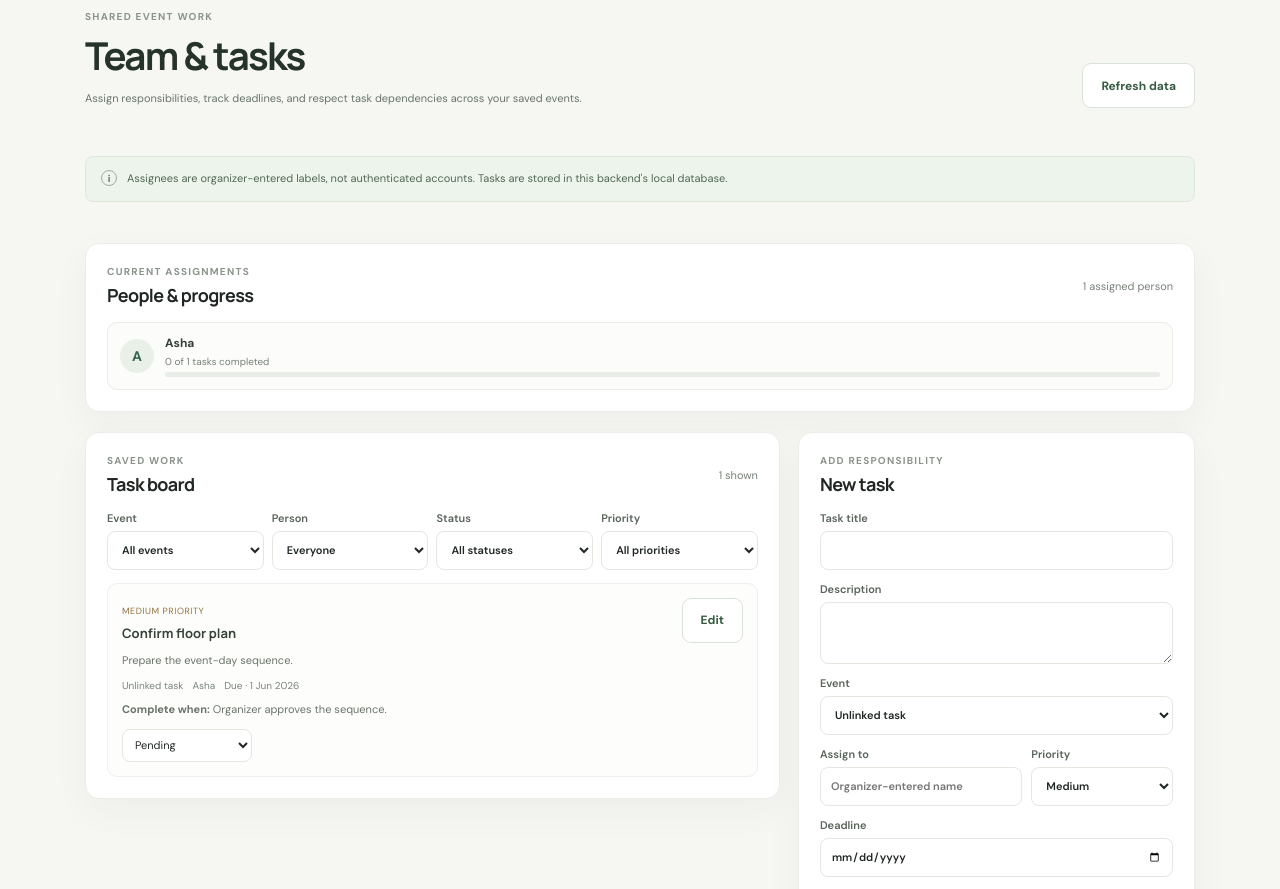
Test: Team & Tasks coordination › creates assigned work with a dependency and reports the persisted result
In the field labelled "Task title": (996, 550) [820, 531, 1173, 570], type "Prepare seating chart"
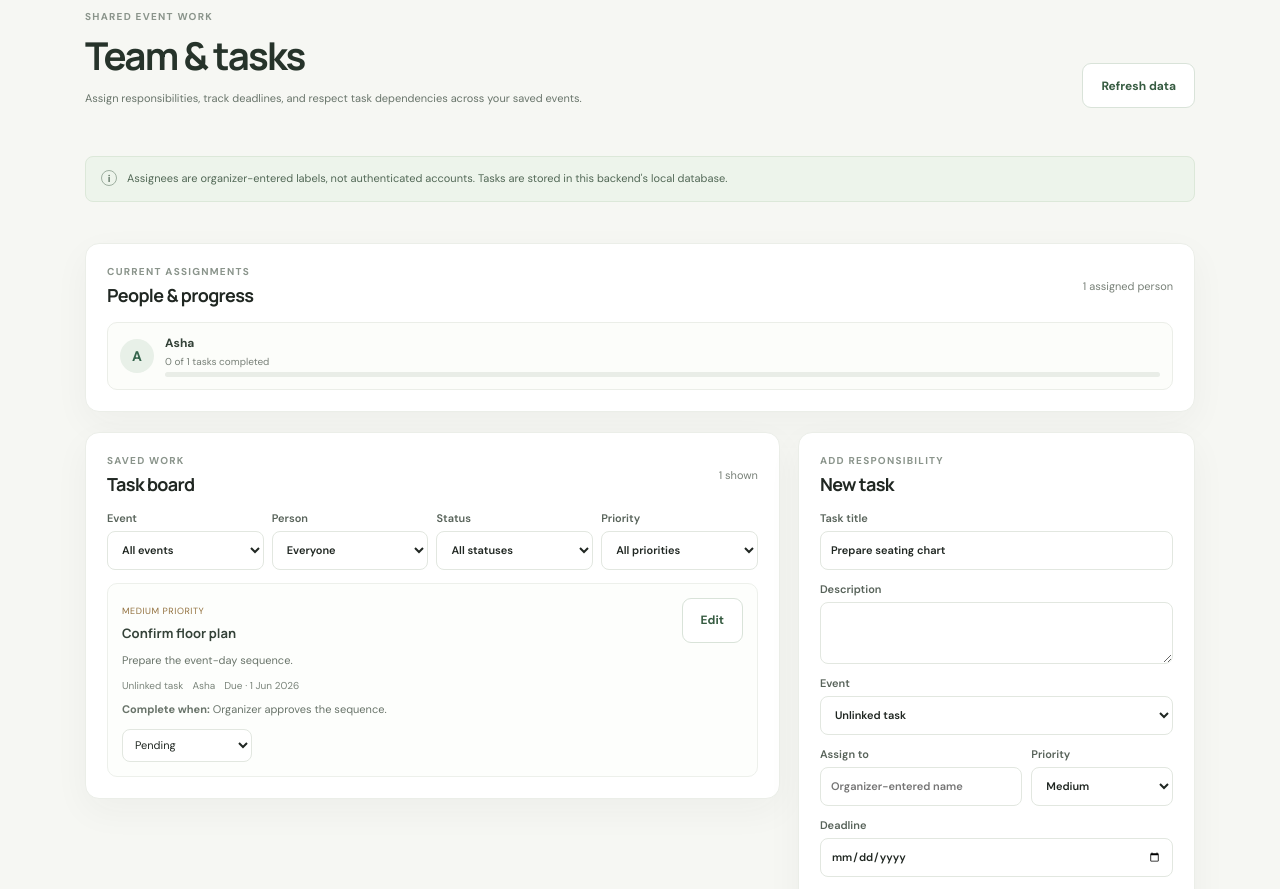
In the field labelled "Assign to": (921, 786) [820, 767, 1022, 806], type "Meera"
(page scrolled)
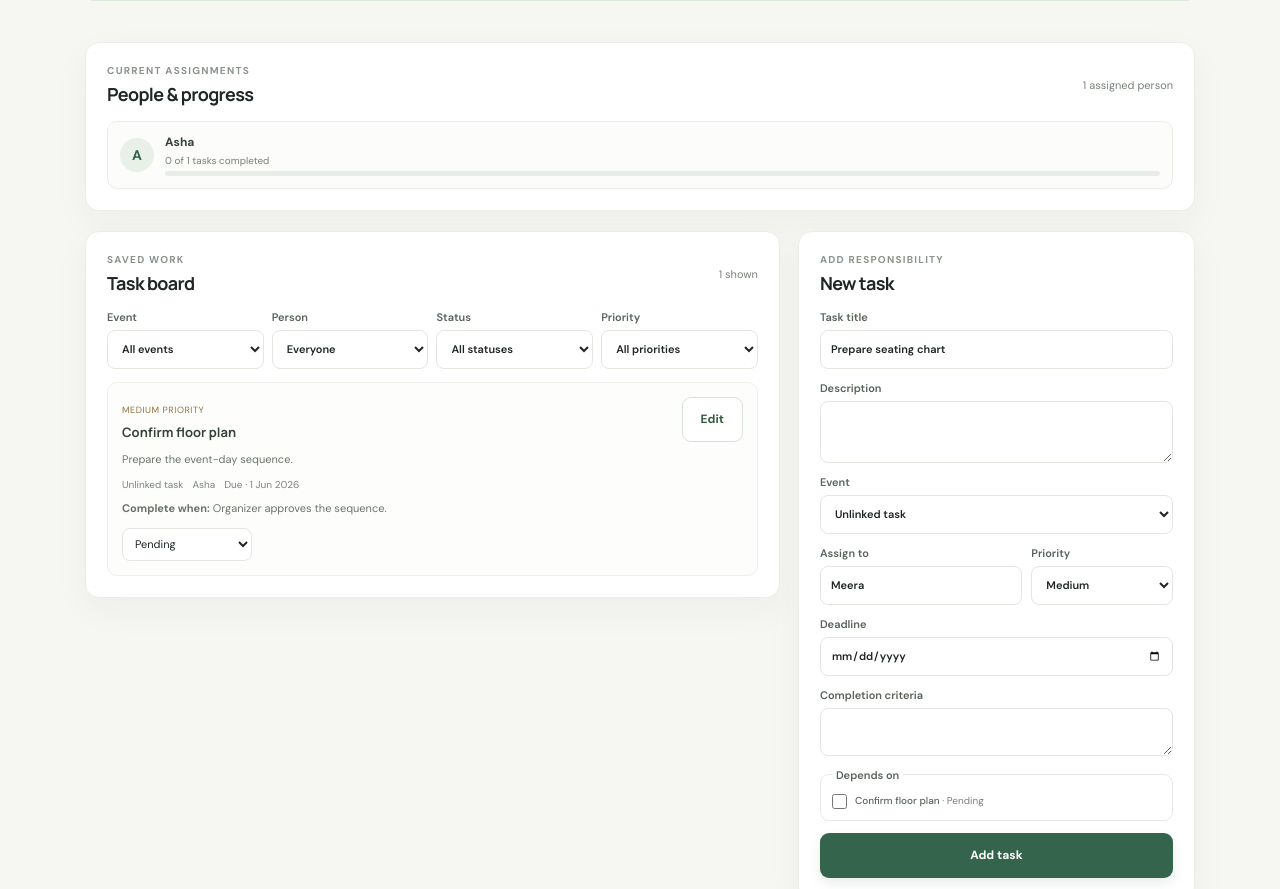
Click the checkbox labelled "Confirm floor plan · Pending": (839, 801) [832, 794, 847, 809]
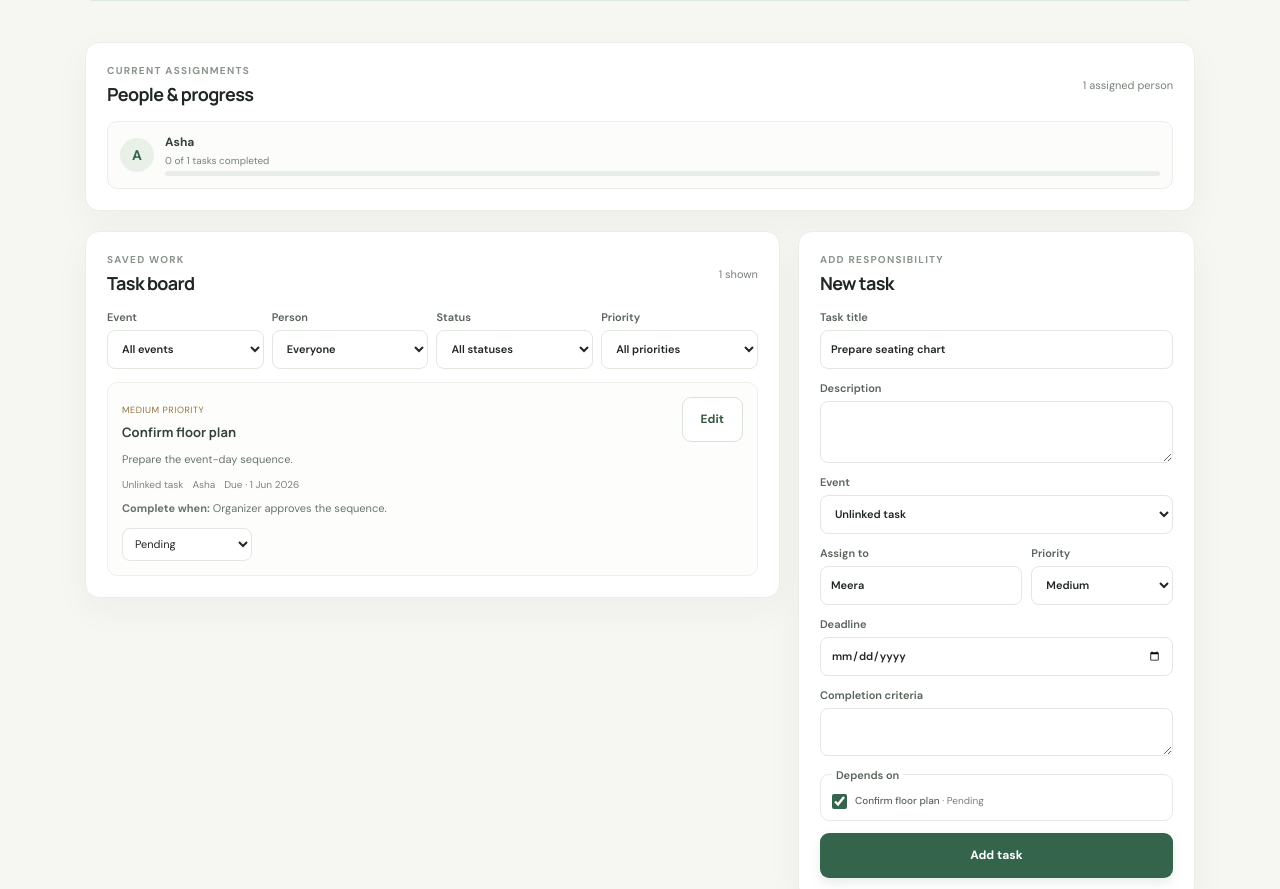
Click the button "Add task": (996, 855) [820, 833, 1173, 878]
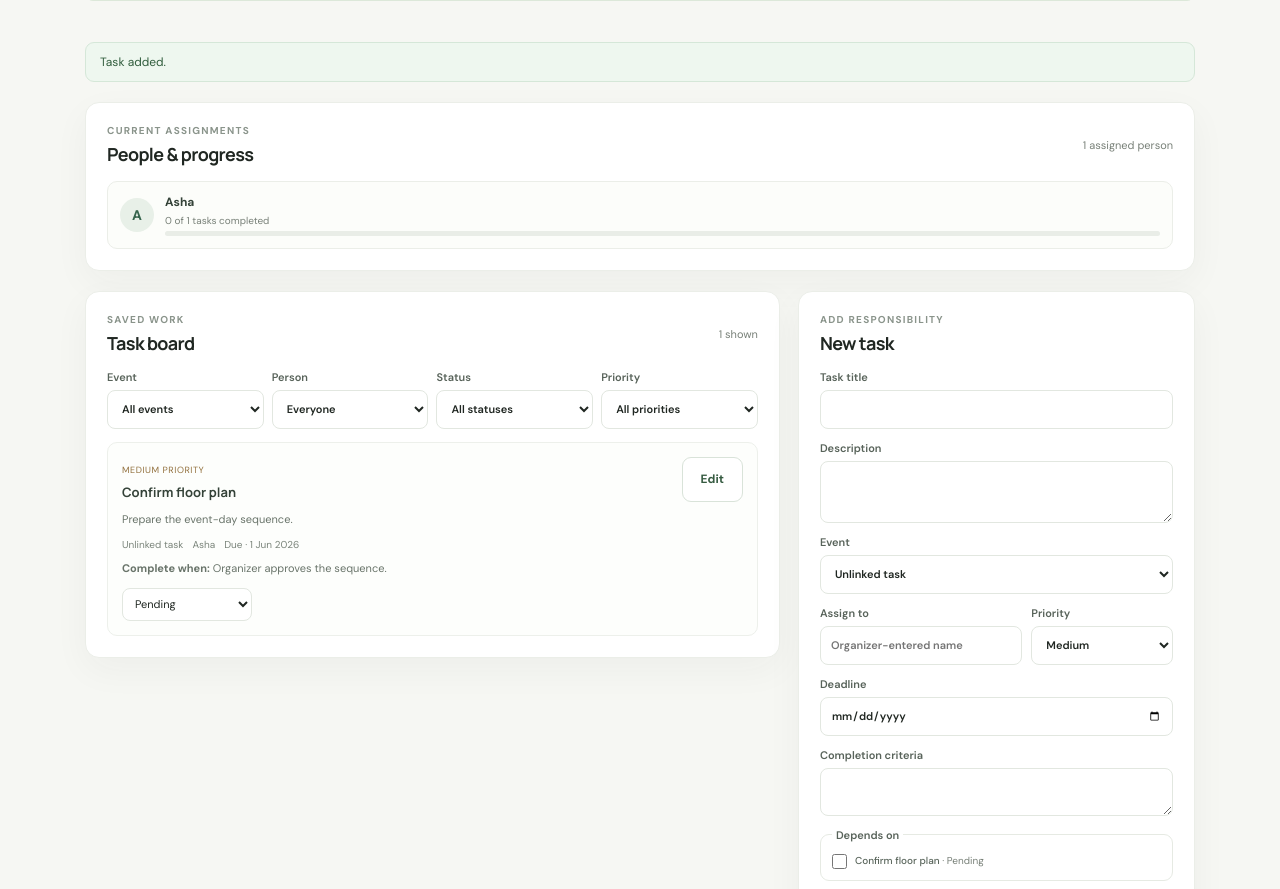
Check: the message "Task added." is shown, box [85, 42, 1195, 82]
